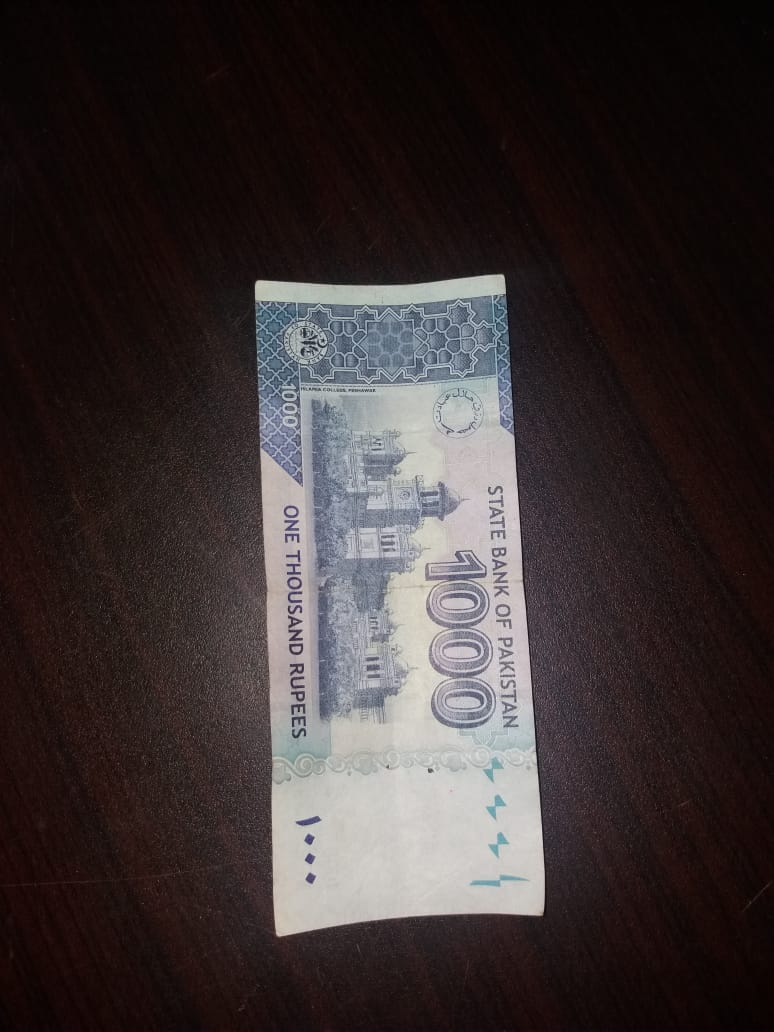1000 rupee: (214, 259, 591, 979)
